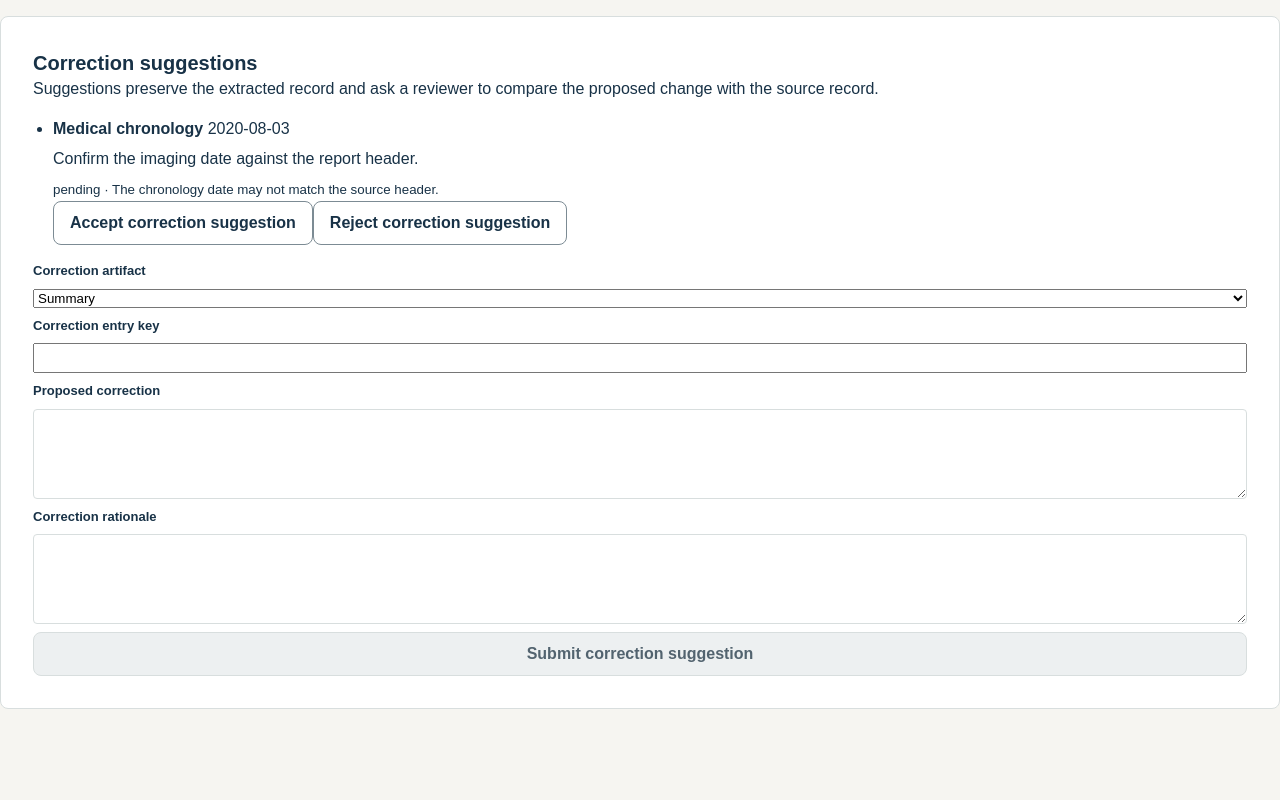
Test: reports correction review failures without changing the pending item
The width and height of the screenshot is (1280, 800).
Expected: the text "Confirm the imaging date against the report header." is shown, [53,150,419,167]
Click the button "Accept correction suggestion" at point(183, 223), box [53,201,313,245]
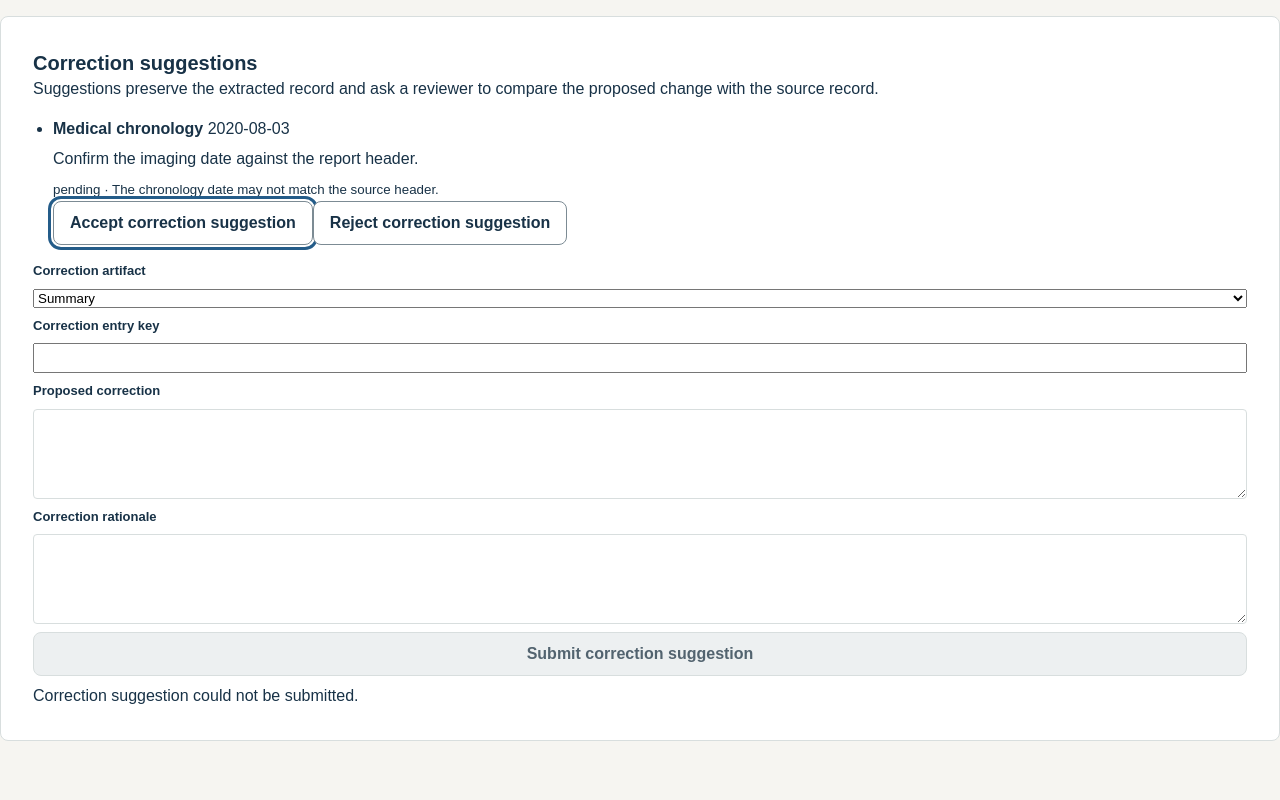
Expected: the text "pending ·" is shown, [53,182,439,197]
Expected: the message reads "Correction suggestion could not be submitted.", [33,687,358,704]
